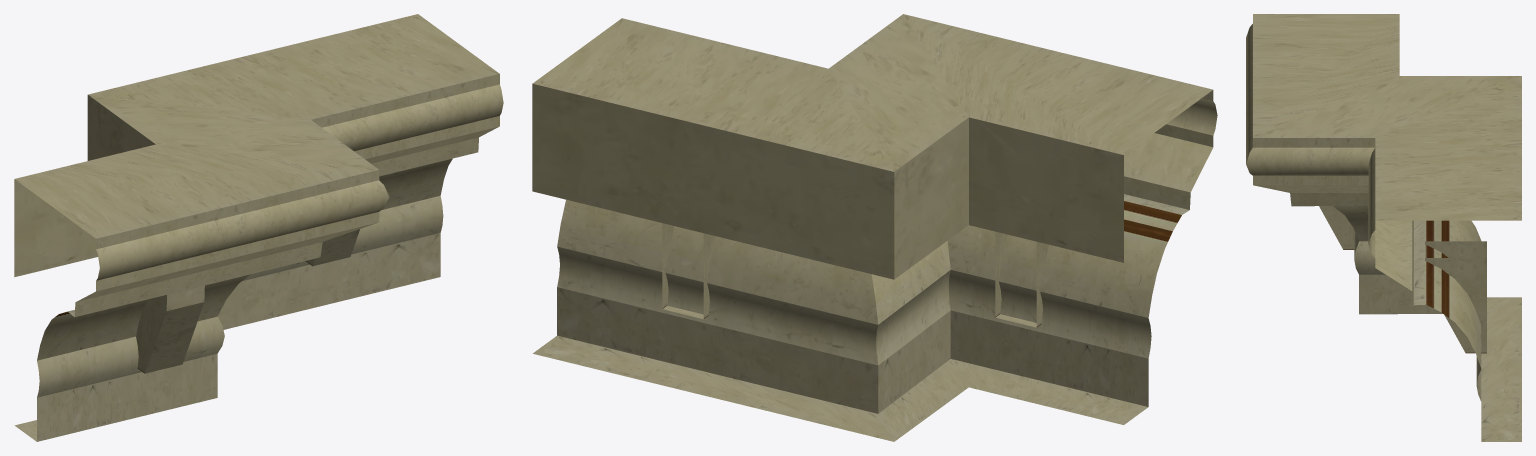
File: Cornice_Trim_90Angle_L.glb
3 renders of one model, left to right at view 1: azimuth 30°, elevation 25°; view 2: azimuth 150°, elevation 25°; view 3: azimuth 270°, elevation 25°, orthographic. The views are drawn at different scales.
Parts seen in each view (by area): view 1: Cornice_Trim_90Angle_L; view 2: Cornice_Trim_90Angle_L; view 3: Cornice_Trim_90Angle_L.
Boxes of the visible parts, x1,y1,x2,y2 form: Cornice_Trim_90Angle_L: [14, 14, 503, 441]; Cornice_Trim_90Angle_L: [532, 14, 1217, 441]; Cornice_Trim_90Angle_L: [1246, 14, 1521, 441].
Size of the model in its own units: 2 by 0.9984 by 1.13.
1 material, 1 textured.
